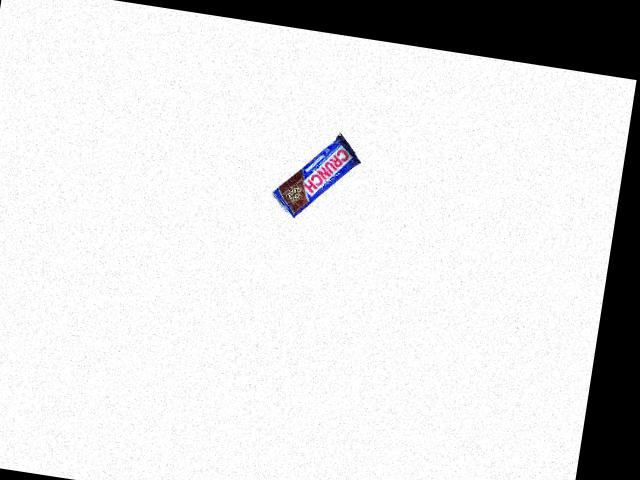chocolate: (267, 122, 366, 228)
